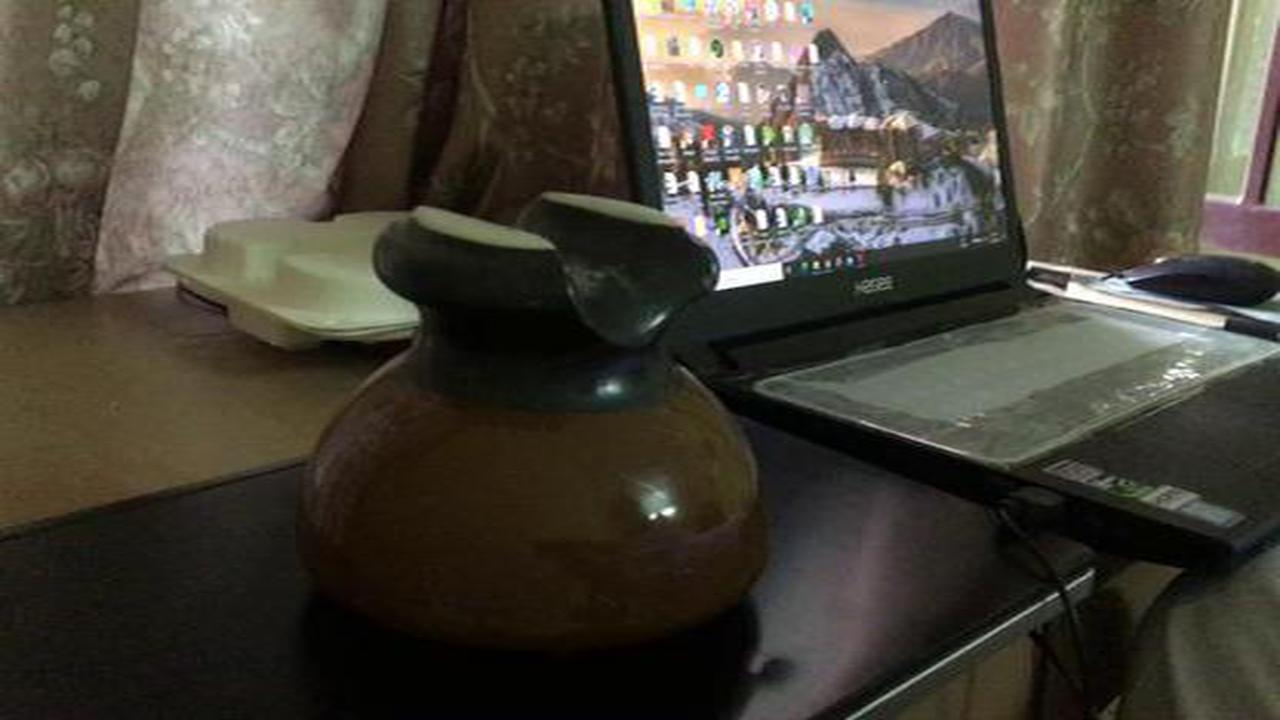insulator_pin: (274, 174, 794, 658)
